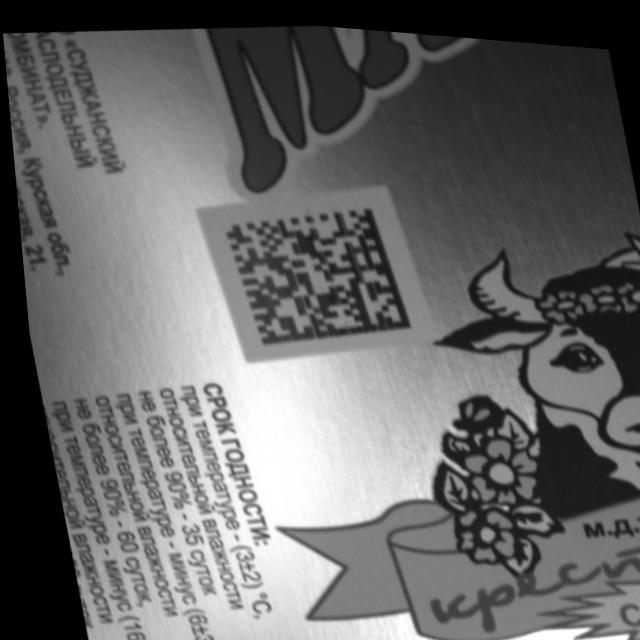datamatrix: (215, 190, 411, 353)
